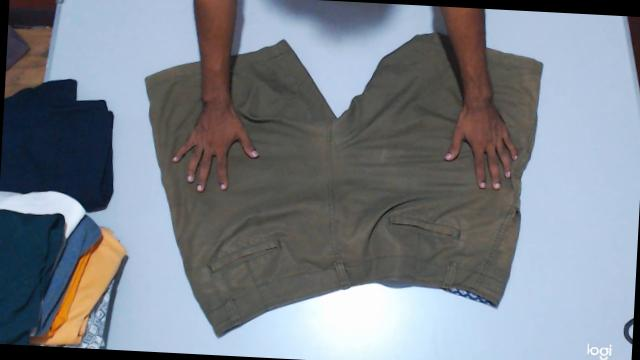new-garment: (145, 33, 542, 336)
